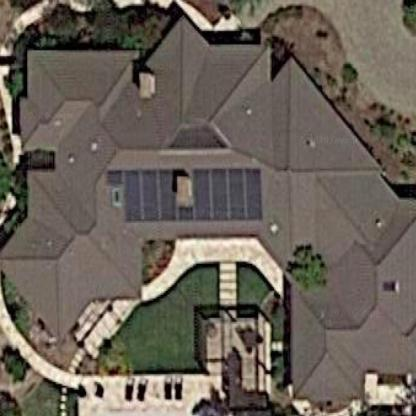solar_panel: (112, 159, 275, 229)
